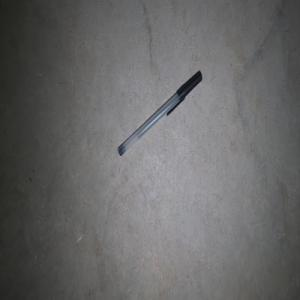Pen: (118, 71, 202, 155)
